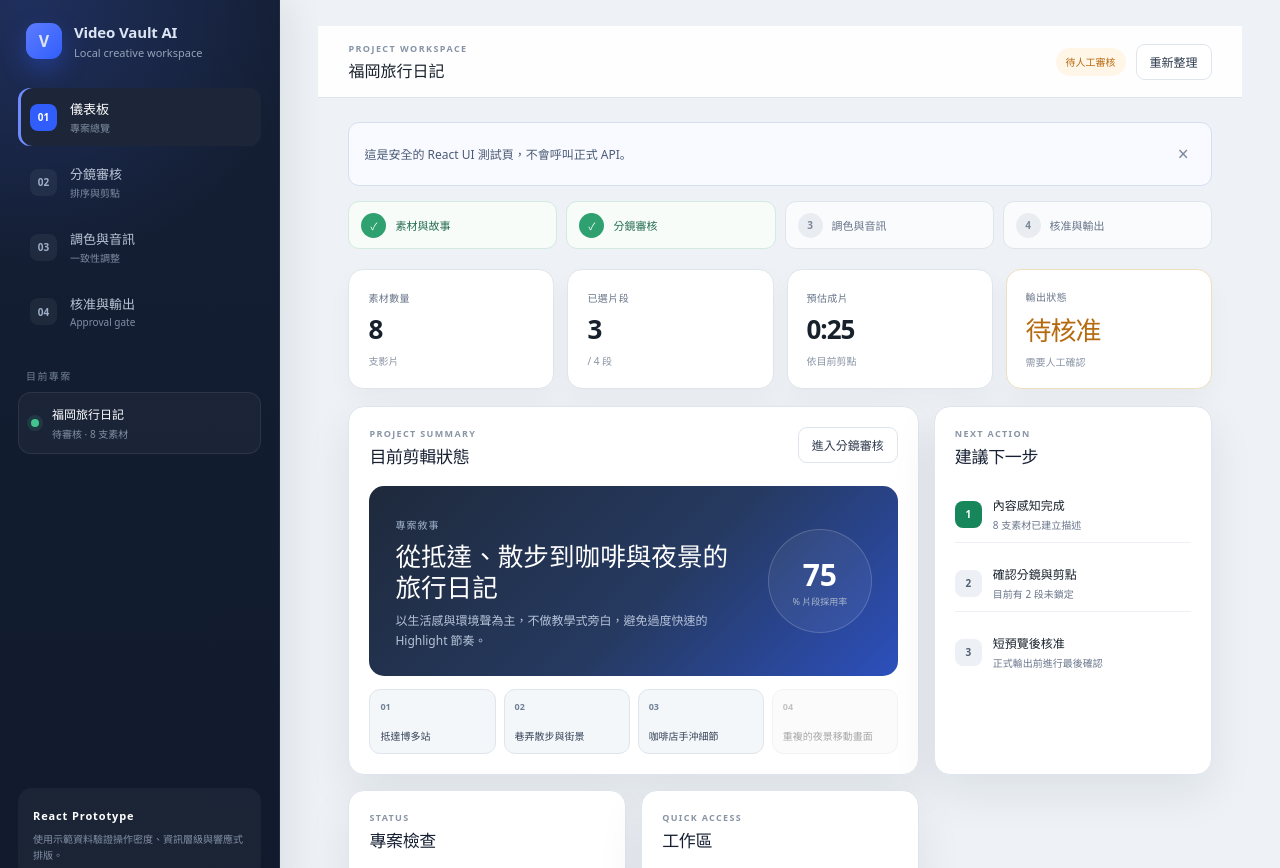
Test: React UI prototype › selecting a segment updates the single inspector
Click the button "02 分鏡審核 排序與剪點" at (140, 182), box [18, 153, 261, 211]
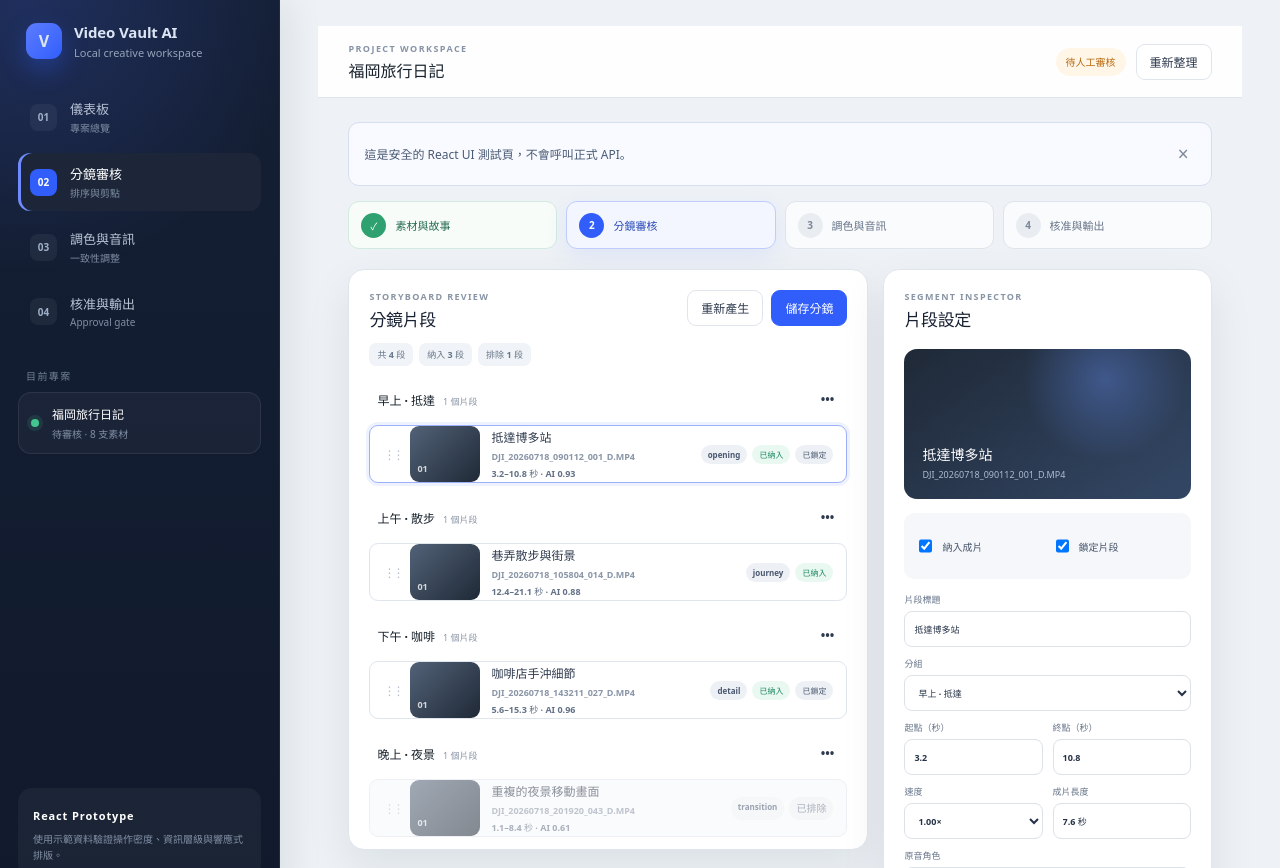
Click the button "巷弄散步與街景" at (608, 572), box [369, 543, 847, 601]
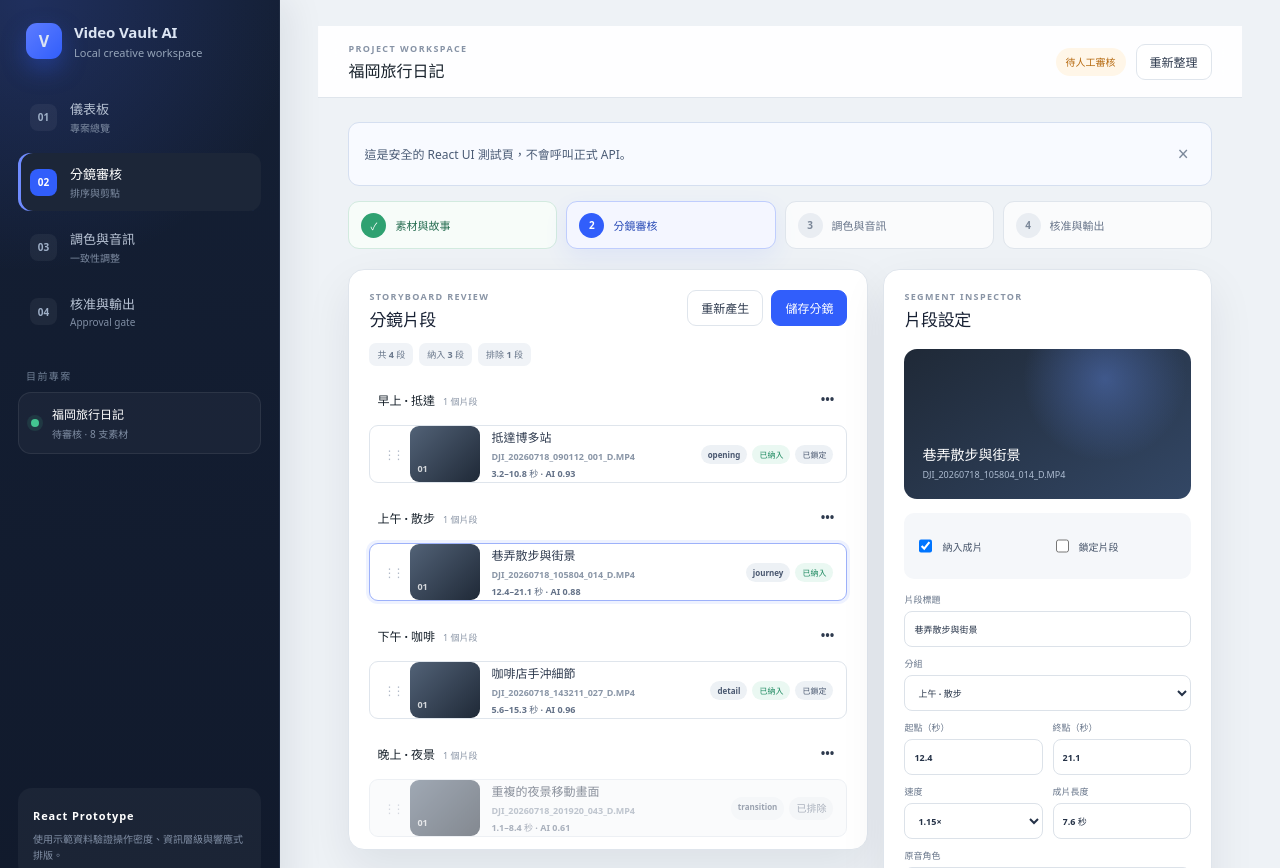
Result: the field labelled "片段標題" holds "巷弄散步與街景" at [904, 611, 1191, 647]
Result: the dropdown named "片段速度" shows "1.15×" at [904, 803, 1042, 839]
